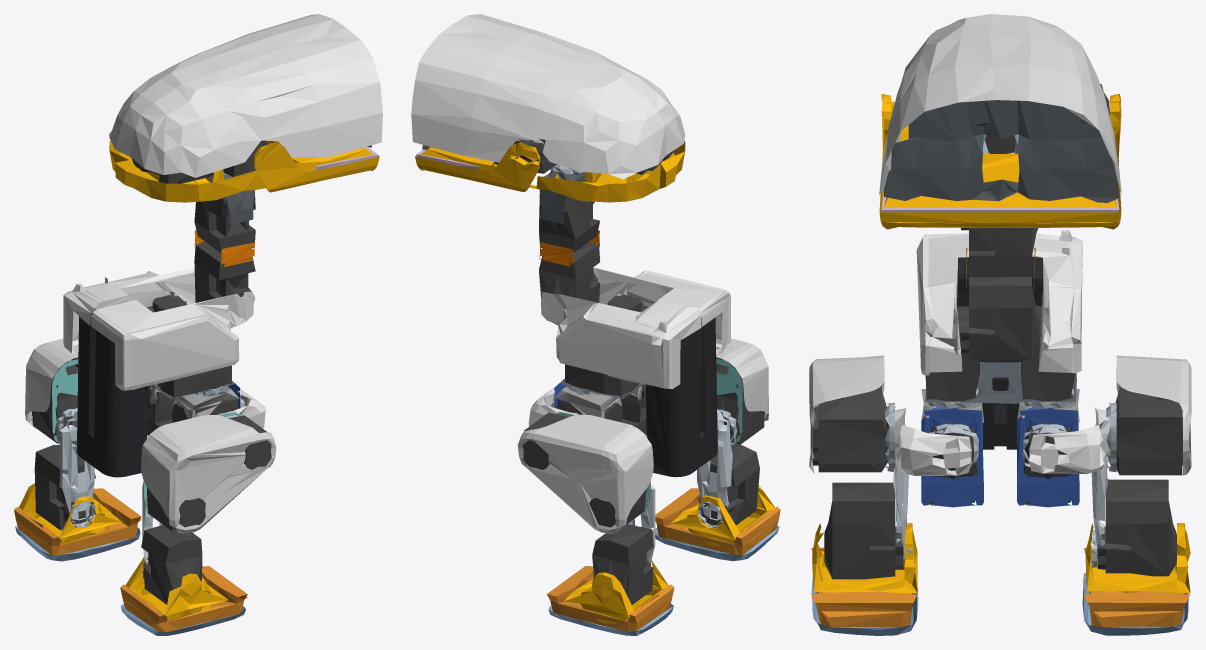
File: microduck.glb
3 renders of one model, left to right at view 1: azimuth 30°, elevation 25°; view 2: azimuth 150°, elevation 25°; view 3: azimuth 270°, elevation 25°, orthographic. The views are drawn at different scales.
Visible parts, largest first — view 1: part.40, part.1, part.51, part.4, part.6, part.39, part.53, part.22, part.58, part.41, part.20, part.26 (+18 smaller); view 2: part.40, part.6, part.14, part.4, part.1, part.39, part.20, part.58, part.22, part.41, part.26, part.24 (+18 smaller); view 3: part.34, part.40, part.53, part.20, part.26, part.1, part.6, part.41, part.52, part.18, part.14, part.13 (+23 smaller).
Boxes of the visible parts, left/top/right/bottom form: part.40: left=109, top=14, right=382, bottom=177; part.1: left=91, top=291, right=255, bottom=390; part.51: left=141, top=415, right=276, bottom=533; part.4: left=76, top=313, right=149, bottom=477; part.6: left=63, top=268, right=195, bottom=353; part.39: left=109, top=140, right=372, bottom=202; part.53: left=141, top=525, right=202, bottom=604; part.22: left=14, top=488, right=141, bottom=555; part.58: left=120, top=566, right=247, bottom=631; part.41: left=253, top=142, right=379, bottom=192; part.20: left=34, top=445, right=95, bottom=530; part.26: left=194, top=241, right=255, bottom=302; part.40: left=411, top=14, right=685, bottom=179; part.6: left=541, top=292, right=701, bottom=389; part.14: left=517, top=414, right=653, bottom=533; part.4: left=646, top=317, right=717, bottom=477; part.1: left=593, top=267, right=730, bottom=354; part.39: left=421, top=141, right=685, bottom=202; part.20: left=592, top=524, right=653, bottom=604; part.58: left=655, top=488, right=780, bottom=555; part.22: left=547, top=566, right=674, bottom=631; part.41: left=415, top=142, right=540, bottom=191; part.26: left=539, top=242, right=600, bottom=302; part.24: left=564, top=560, right=668, bottom=623; part.34: left=884, top=100, right=1119, bottom=202; part.40: left=879, top=14, right=1121, bottom=195; part.53: left=824, top=482, right=903, bottom=579; part.20: left=1097, top=479, right=1176, bottom=576; part.26: left=961, top=277, right=1040, bottom=360; part.1: left=916, top=233, right=968, bottom=375; part.6: left=1032, top=230, right=1082, bottom=373; part.41: left=879, top=94, right=1121, bottom=229; part.52: left=810, top=385, right=889, bottom=463; part.18: left=1115, top=385, right=1190, bottom=459; part.14: left=1116, top=355, right=1191, bottom=475; part.13: left=1029, top=407, right=1110, bottom=474.
Size of the model in its own units: 0.1413 by 0.2617 by 0.1399.
